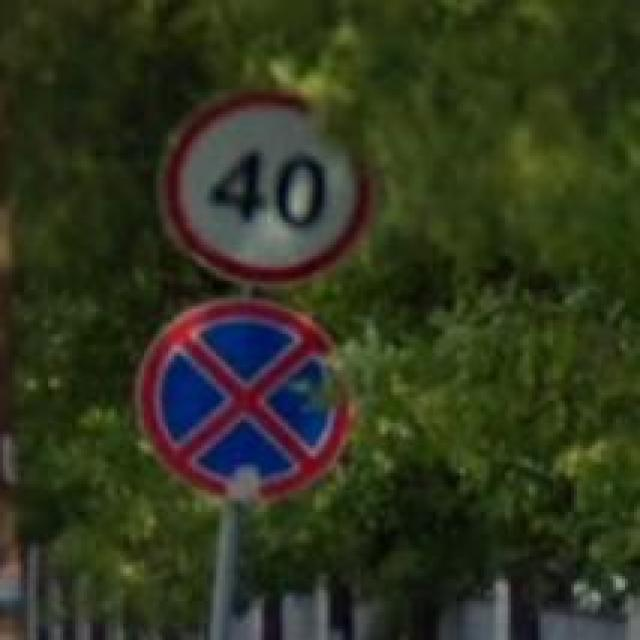Ograniczenie predkosci do 40: (156, 86, 382, 290)
Zakaz zatrzymywania sie: (135, 295, 355, 504)
